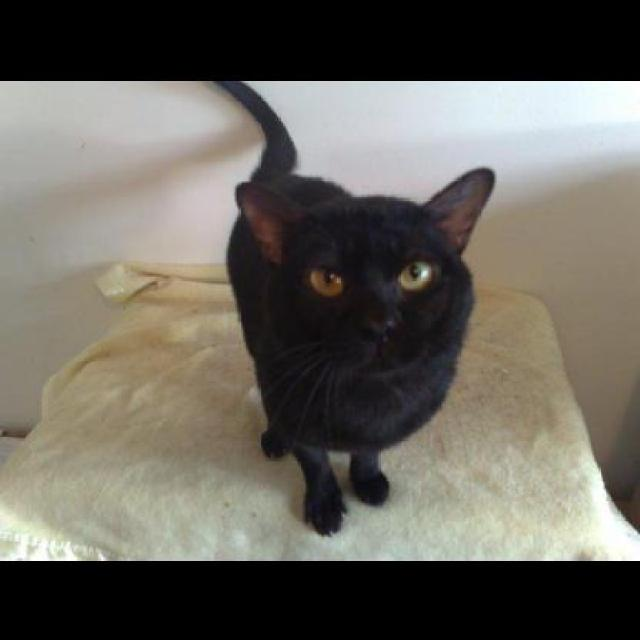unauthorized: (210, 77, 496, 537)
